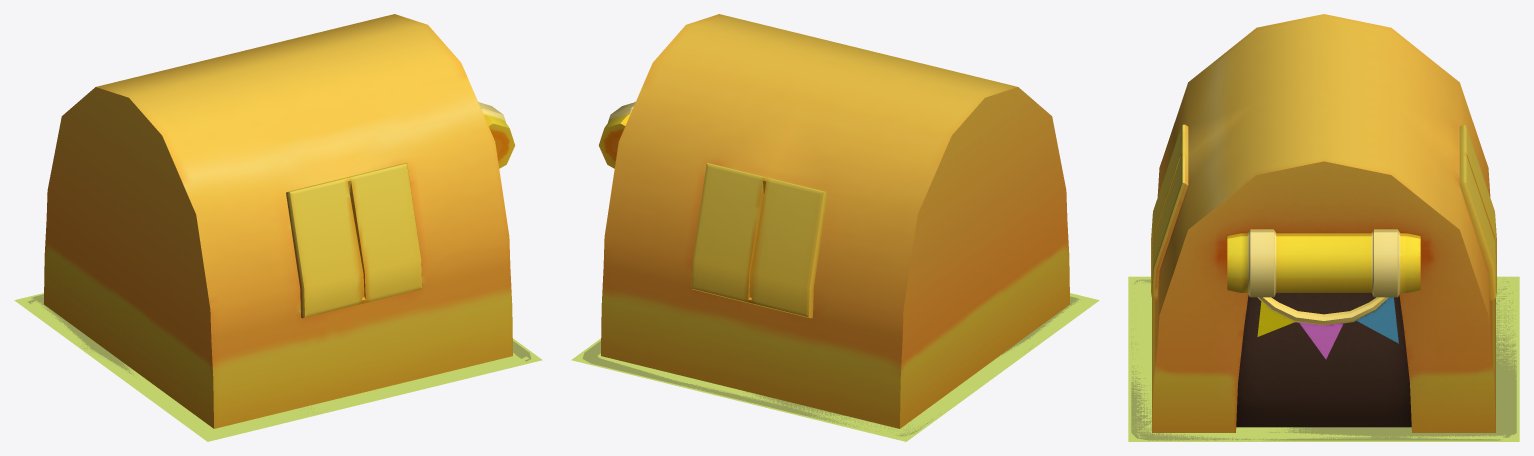
Rendered from Tent.fbx.
The picture shows the model from 3 angles, left to right: view 1: azimuth 30°, elevation 25°; view 2: azimuth 150°, elevation 25°; view 3: azimuth 270°, elevation 25°; orthographic projection.
Parts seen in each view (by area): view 1: Tent, TentGrid1, Tent_Door, TentShadow; view 2: Tent, TentGrid1, TentShadow, Tent_Door; view 3: Tent, Tent_Door, TentGrid1, TentShadow, EntranceDecor1, EntranceDecor.
Part boxes in pixels (<box>): Tent: <box>44,14,512,428</box>; TentGrid1: <box>14,293,542,441</box>; Tent_Door: <box>478,101,515,168</box>; TentShadow: <box>27,294,531,413</box>; Tent: <box>601,14,1069,428</box>; TentGrid1: <box>571,293,1099,441</box>; TentShadow: <box>582,296,1080,436</box>; Tent_Door: <box>598,101,635,168</box>; Tent: <box>1151,14,1496,432</box>; Tent_Door: <box>1227,229,1420,325</box>; TentGrid1: <box>1128,276,1519,441</box>; TentShadow: <box>1131,279,1516,440</box>; EntranceDecor1: <box>1257,297,1398,343</box>; EntranceDecor: <box>1299,322,1343,359</box>.
Size of the model in its own units: 325 by 230 by 300.
